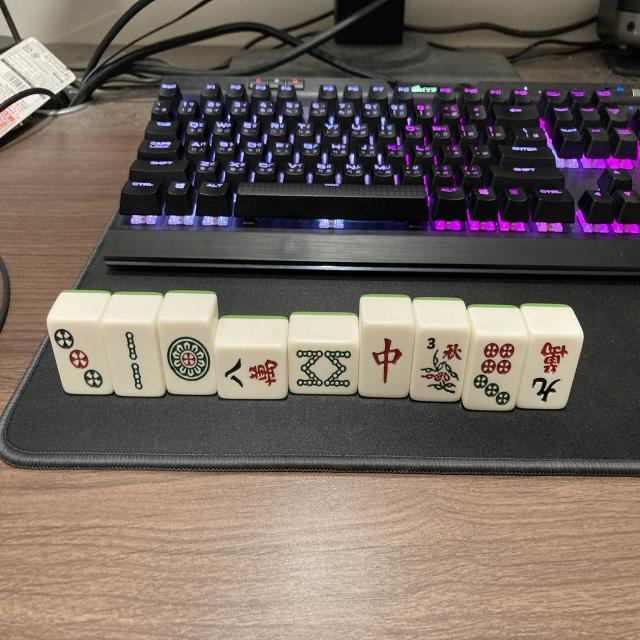ff3: (412, 331, 470, 399)
m8: (218, 349, 286, 397)
m9: (520, 337, 582, 408)
s2: (105, 326, 166, 396)
s8: (290, 347, 357, 392)
t1: (157, 322, 216, 395)
t3: (47, 322, 113, 394)
t7: (464, 338, 525, 408)
zhong: (360, 326, 415, 397)
